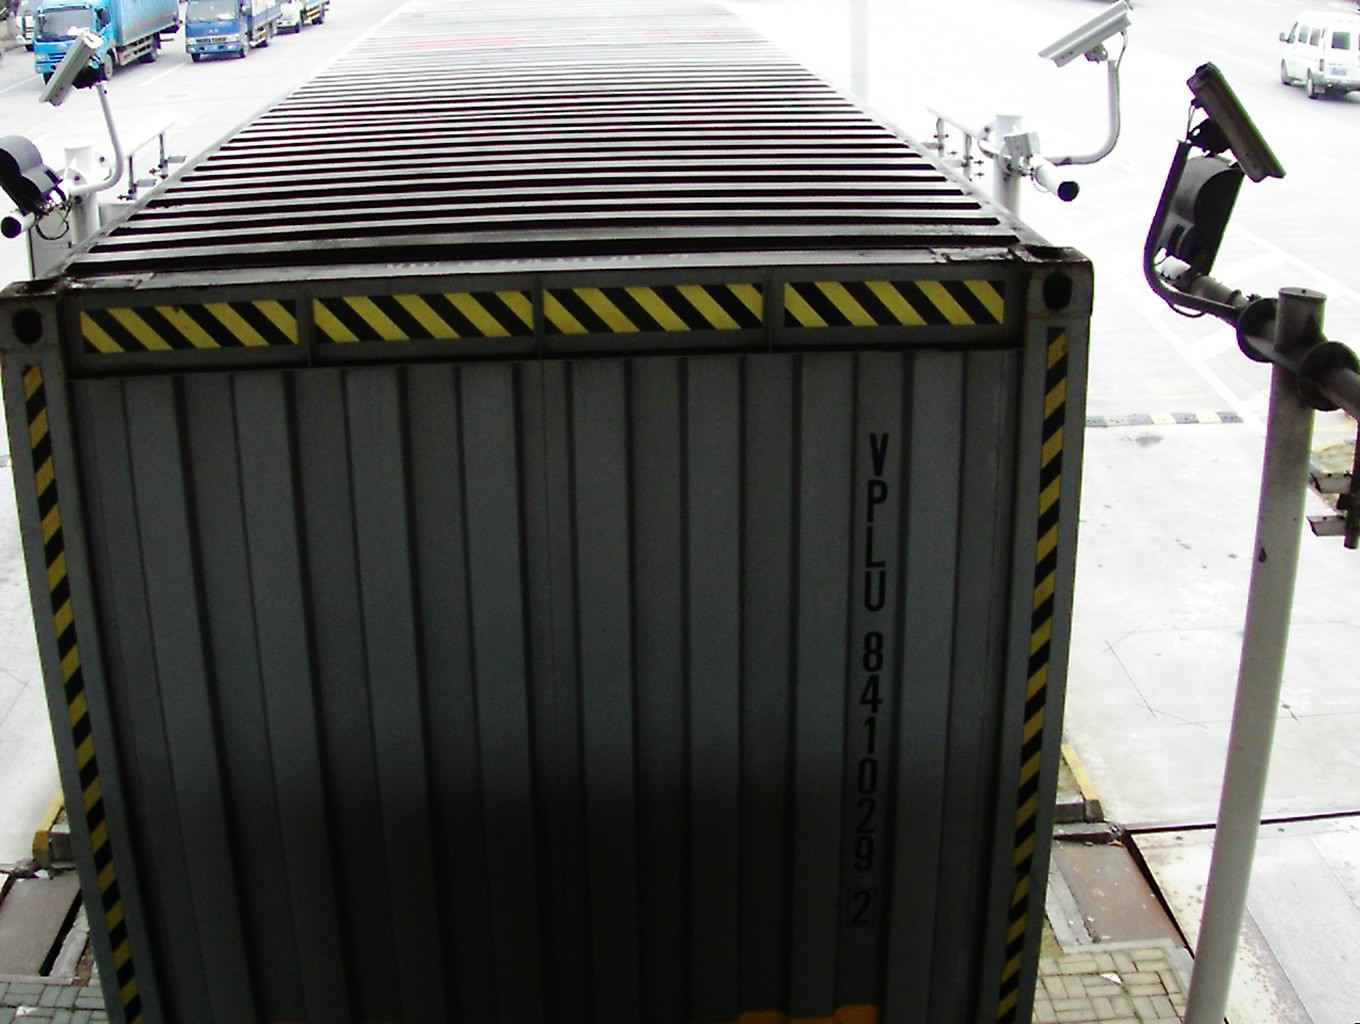words: (841, 418, 897, 935)
